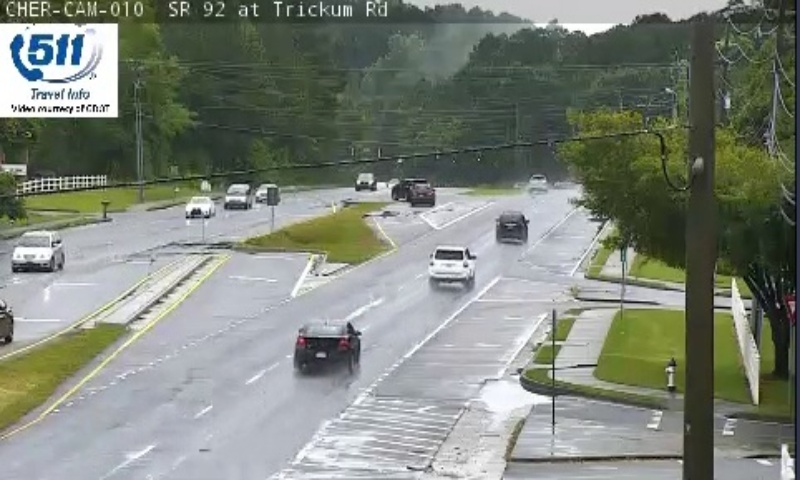car: (293, 321, 360, 368), (429, 247, 474, 283), (496, 211, 527, 240)
